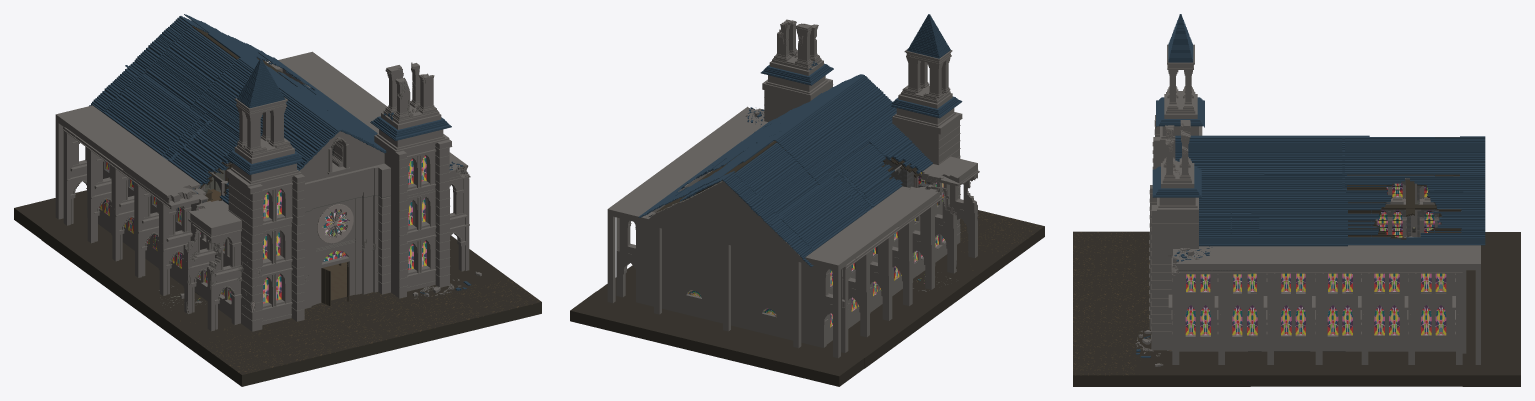
The model's file is Igle.fbx.
3 renders of one model, left to right at view 1: azimuth 30°, elevation 25°; view 2: azimuth 150°, elevation 25°; view 3: azimuth 270°, elevation 25°, orthographic. The views are drawn at different scales.
Parts seen in each view (by area): view 1: Untitled, Untitled.031, Untitled.029, Untitled.020, Untitled.034, Untitled.019, Untitled.027, Untitled.028, Untitled.032, Untitled.024, Untitled.021, Untitled.001 (+15 smaller); view 2: Untitled.010, Untitled.011, Untitled.017, Untitled.020, Untitled.034, Untitled, Untitled.009, Untitled.019, Untitled.027, Untitled.021, Untitled.006, Untitled.007 (+14 smaller); view 3: Untitled.015, Untitled.029, Untitled.022, Untitled.027, Untitled.014, Untitled.013, Untitled.008, Untitled.003, Untitled.011, Untitled.028, Untitled.030, Untitled.032 (+11 smaller).
Boxes of the visible parts, x1,y1,x2,y2 form: Untitled: (161,218,307,362); Untitled.031: (290,195,407,329); Untitled.029: (391,172,506,304); Untitled.020: (41,127,148,283); Untitled.034: (188,138,305,236); Untitled.019: (65,74,199,169); Untitled.027: (350,102,468,202); Untitled.028: (297,96,397,212); Untitled.032: (301,294,444,361); Untitled.024: (122,170,228,295); Untitled.021: (123,119,238,203); Untitled.001: (208,325,345,386); Untitled.010: (663,235,780,366); Untitled.011: (570,215,689,343); Untitled.017: (755,257,864,386); Untitled.020: (775,227,918,368); Untitled.034: (868,85,977,183); Untitled: (894,157,1015,289); Untitled.009: (679,170,783,255); Untitled.019: (778,177,899,264); Untitled.027: (713,50,833,139); Untitled.021: (834,143,939,226); Untitled.006: (813,74,896,151); Untitled.007: (735,138,830,214); Untitled.015: (1345,236,1462,386); Untitled.029: (1133,236,1250,386); Untitled.022: (1228,270,1345,386); Untitled.027: (1149,158,1251,270); Untitled.014: (1230,191,1347,270); Untitled.013: (1346,190,1463,270); Untitled.008: (1345,137,1462,216); Untitled.003: (1257,136,1346,191); Untitled.011: (1462,270,1520,386); Untitled.028: (1152,137,1264,191); Untitled.030: (1073,325,1141,386); Untitled.032: (1073,279,1149,328).
Bounding box in the file's own units: 7420 × 6370 × 9780.
